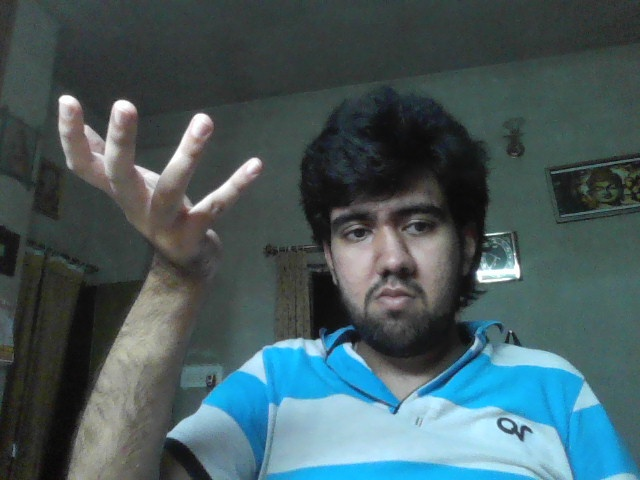What: (57, 94, 263, 270)
